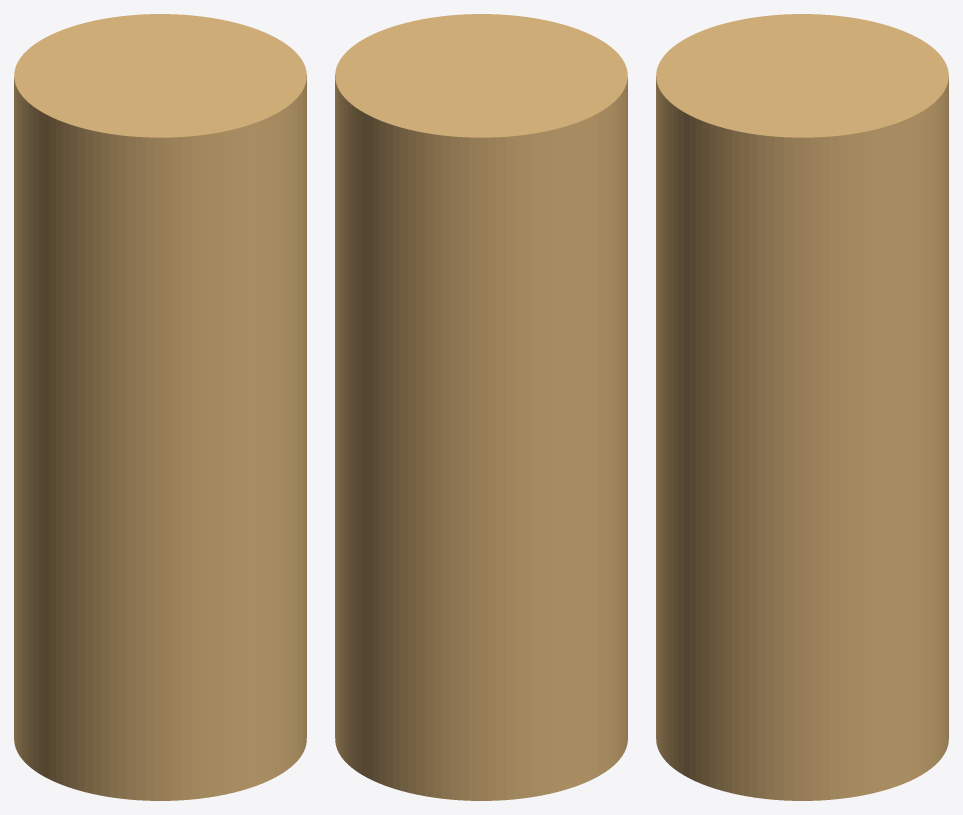
File: prototype-human.glb
3 views of the same model, side by side, from view 1: azimuth 30°, elevation 25°; view 2: azimuth 150°, elevation 25°; view 3: azimuth 270°, elevation 25° (orthographic).
Visible parts, largest first — view 1: Cylinder; view 2: Cylinder; view 3: Cylinder.
Part boxes in pixels (x1,y1,x2,y2): Cylinder: (14,14,306,800); Cylinder: (335,14,627,800); Cylinder: (656,14,948,800).
Size of the model in its own units: 0.8 by 2 by 0.8.
